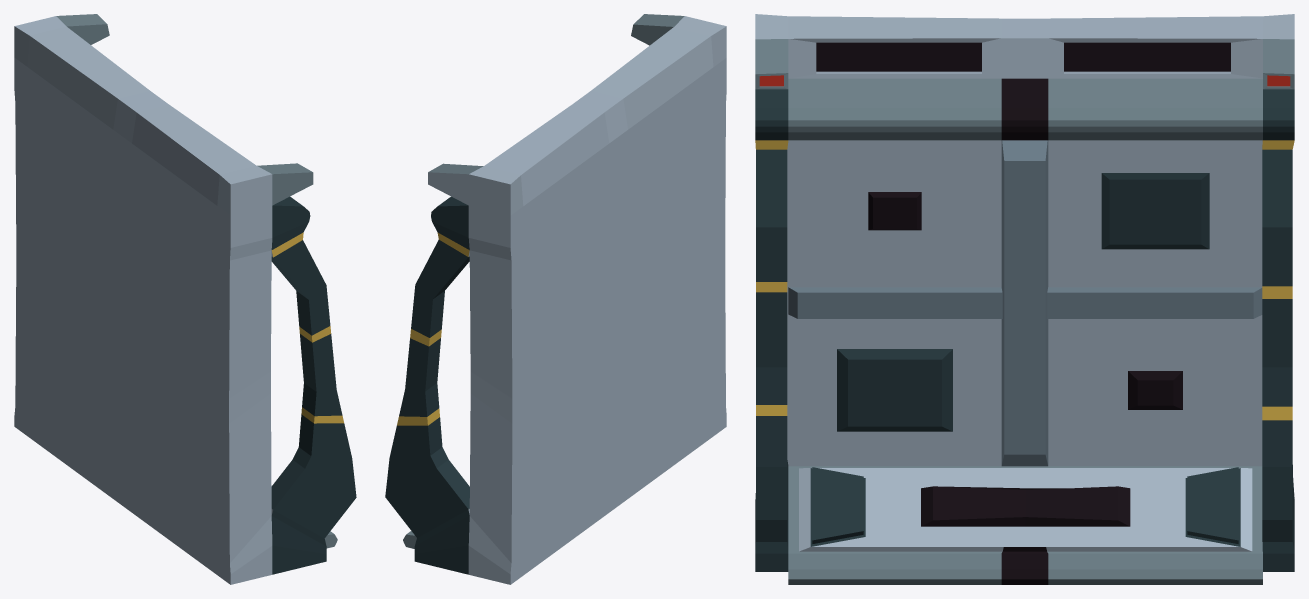
The model's file is Muros-Scifi.fbx.
3 views of the same model, side by side, from view 1: azimuth 30°, elevation 25°; view 2: azimuth 150°, elevation 25°; view 3: azimuth 270°, elevation 25° (orthographic). The views are drawn at different scales.
Parts seen in each view (by area): view 1: wall; view 2: wall; view 3: wall.
Boxes of the visible parts, bbox=[...] form: wall: bbox=[14, 14, 356, 584]; wall: bbox=[385, 14, 726, 584]; wall: bbox=[755, 14, 1294, 584].
Size of the model in its own units: 130 by 395 by 387.
